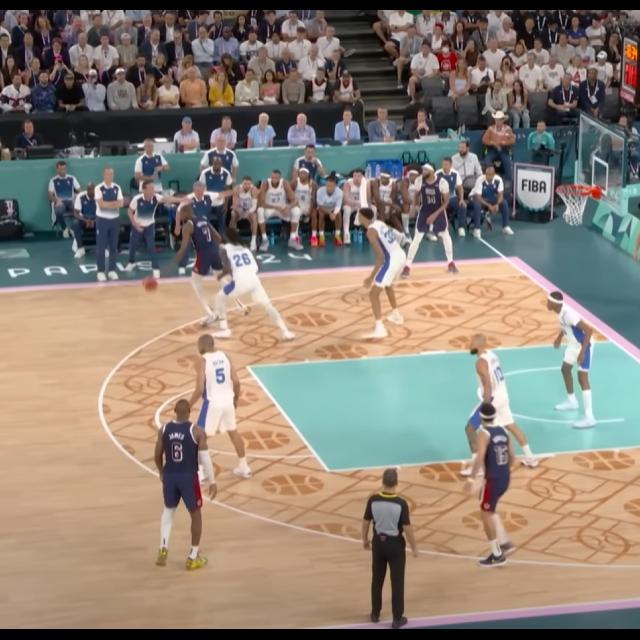basketball: (142, 278, 157, 290)
hoop: (557, 182, 593, 229)
